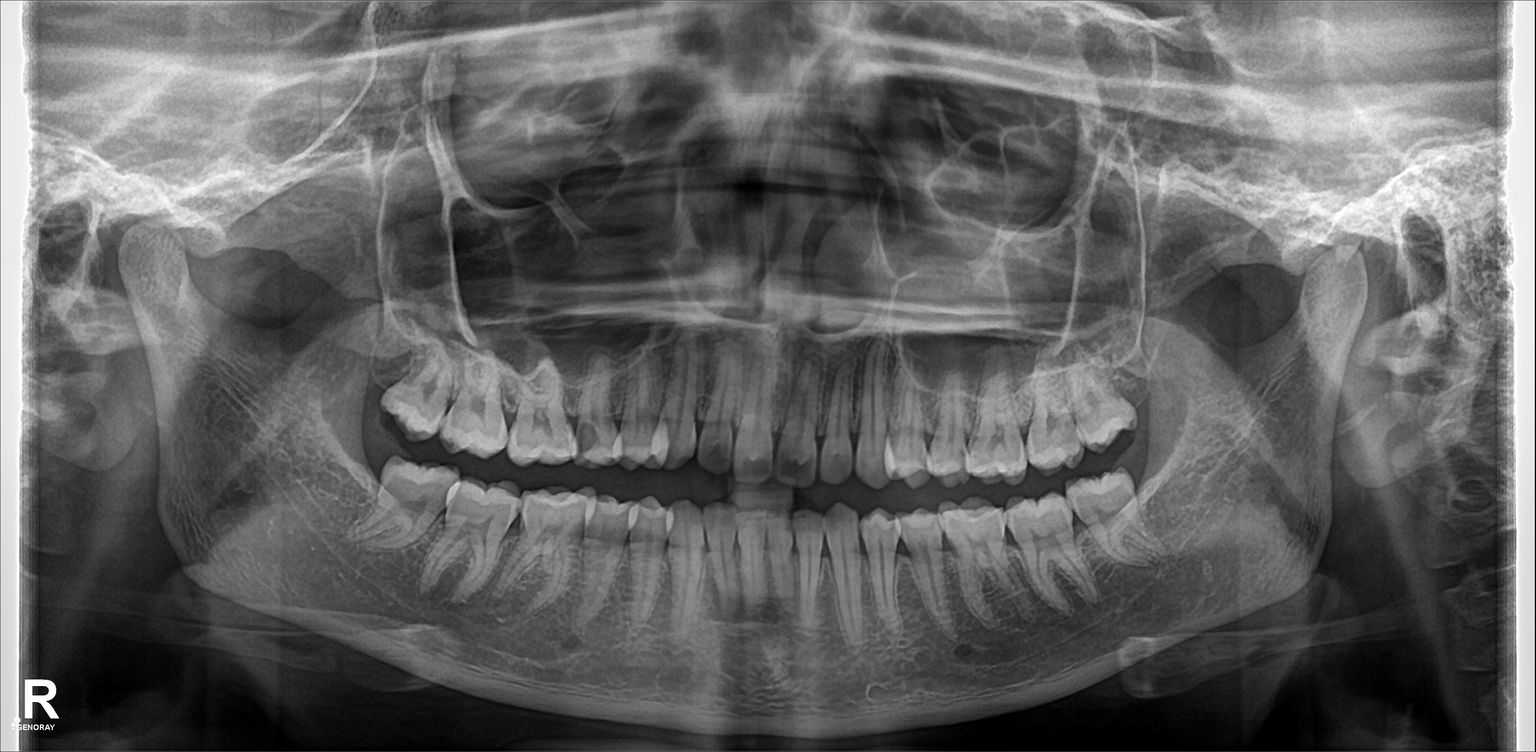Dental Caries: (574, 426, 603, 456)
Missing Tooth: (328, 434, 386, 524), (350, 315, 396, 414)
